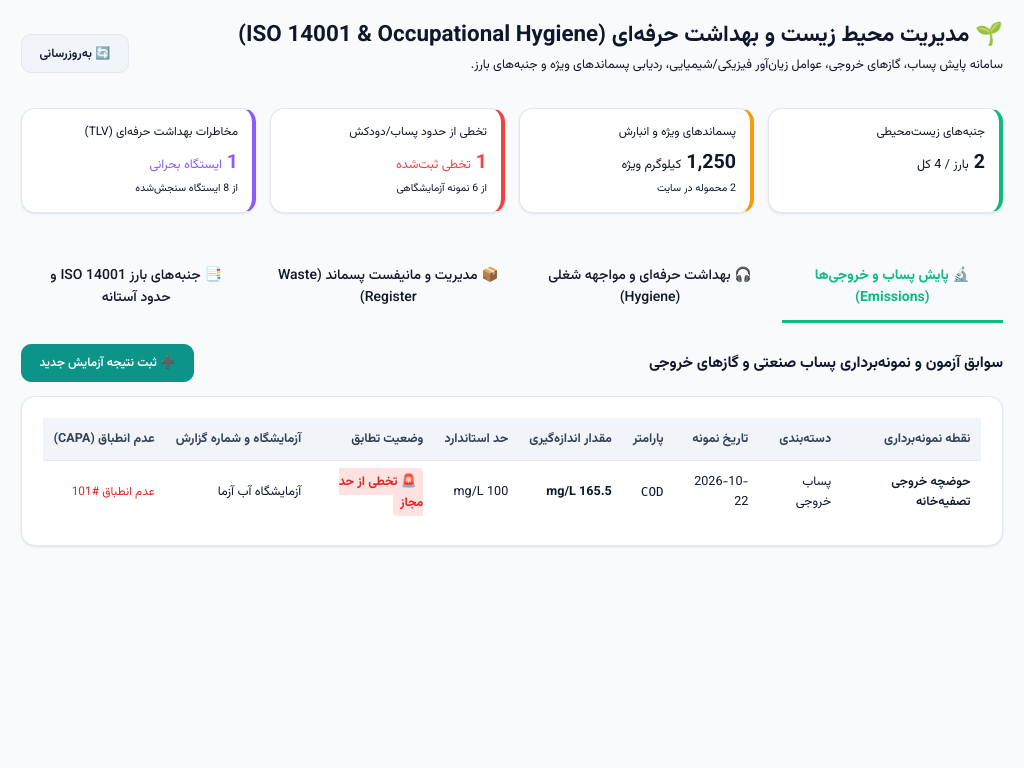
EnvironmentPage (Phase 14) › switches to occupational hygiene tab and shows risk assessment results
The width and height of the screenshot is (1024, 768).
Click the button "🎧 بهداشت حرفه‌ای و مواجهه شغلی (Hygiene)" at point(650, 289), box [525,255,775,323]
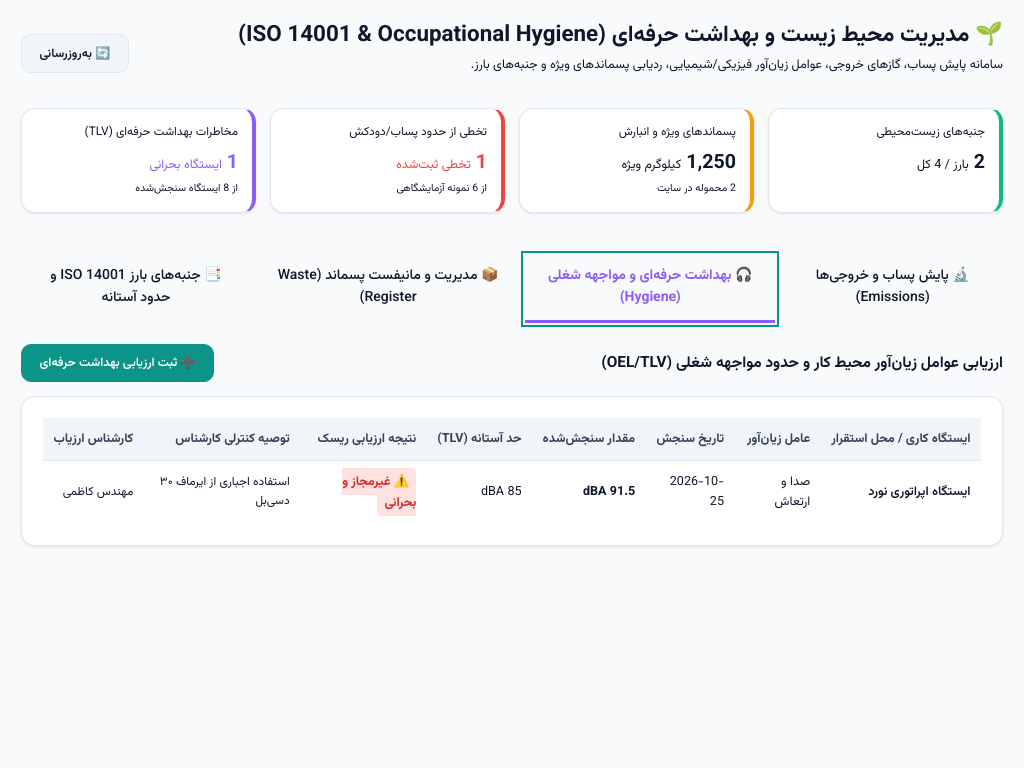
Expected: the text "ایستگاه اپراتوری نورد" is shown, [821,461,981,524]
Expected: the text "91.5 dBA" is shown, [532,461,646,524]
Expected: the text "⚠️ غیرمجاز و بحرانی" is shown, [342,468,416,516]
